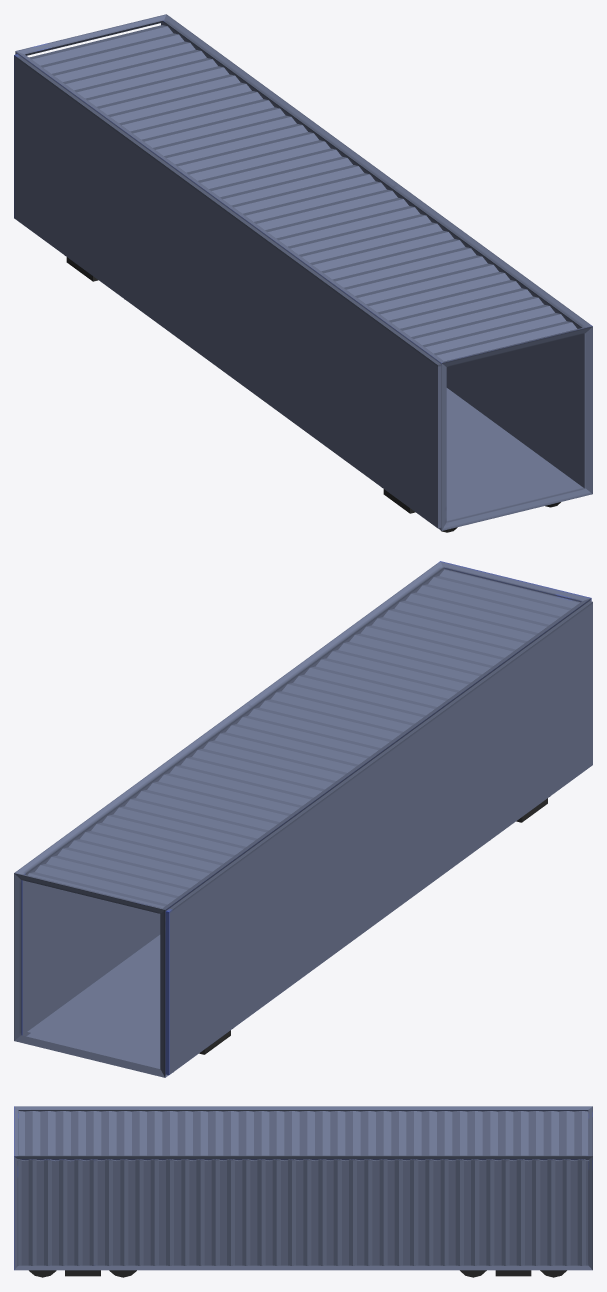
Rendered from container 1.fbx.
3 views of the same model, one above another, from view 1: azimuth 30°, elevation 25°; view 2: azimuth 150°, elevation 25°; view 3: azimuth 270°, elevation 25° (orthographic). The views are drawn at different scales.
Visible parts, largest first — view 1: wagon-container; view 2: wagon-container; view 3: wagon-container.
Part boxes in pixels (bbox=[...]): wagon-container: bbox=[14, 14, 592, 532]; wagon-container: bbox=[14, 561, 592, 1077]; wagon-container: bbox=[14, 1106, 592, 1277].
Bounding box in the file's own units: 83.82 × 98.2 × 402.
